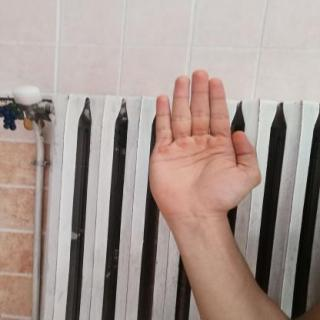SEEN: (140, 64, 272, 224)
